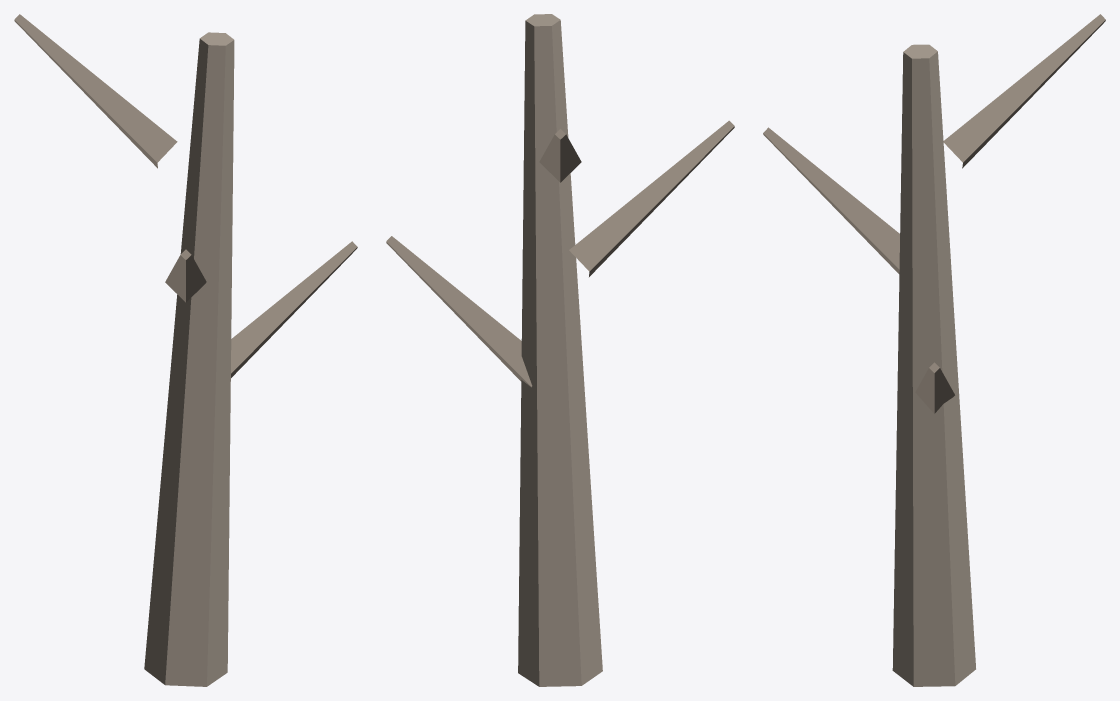
The model's file is deadtree_v08.glb.
3 views of the same model, side by side, from view 1: azimuth 30°, elevation 25°; view 2: azimuth 150°, elevation 25°; view 3: azimuth 270°, elevation 25° (orthographic).
Visible parts, largest first — view 1: lod0; view 2: lod0; view 3: lod0.
Boxes of the visible parts, left/top/right/bottom form: lod0: left=14, top=14, right=357, bottom=686; lod0: left=386, top=14, right=734, bottom=686; lod0: left=763, top=14, right=1105, bottom=686.
Size of what is drawn, in the model's own units: 1.81 by 4.22 by 2.07.
